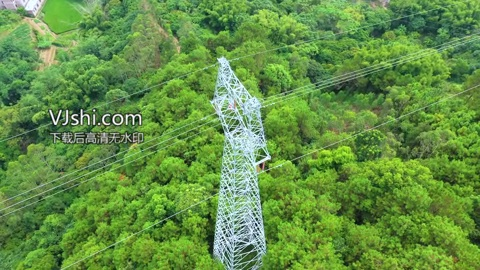tower_body: (204, 53, 274, 270)
tower_foot: (211, 218, 269, 268)
tower_head: (208, 55, 270, 152)
